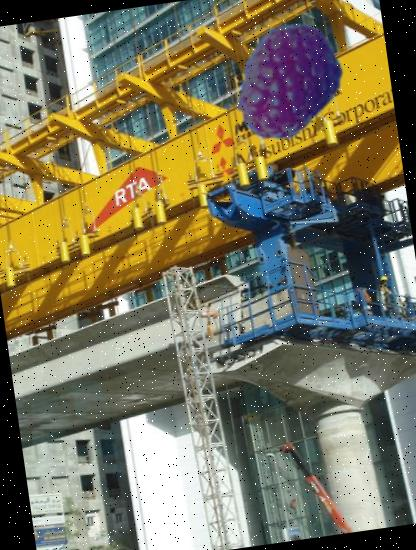Raspberry: (215, 11, 356, 150)
